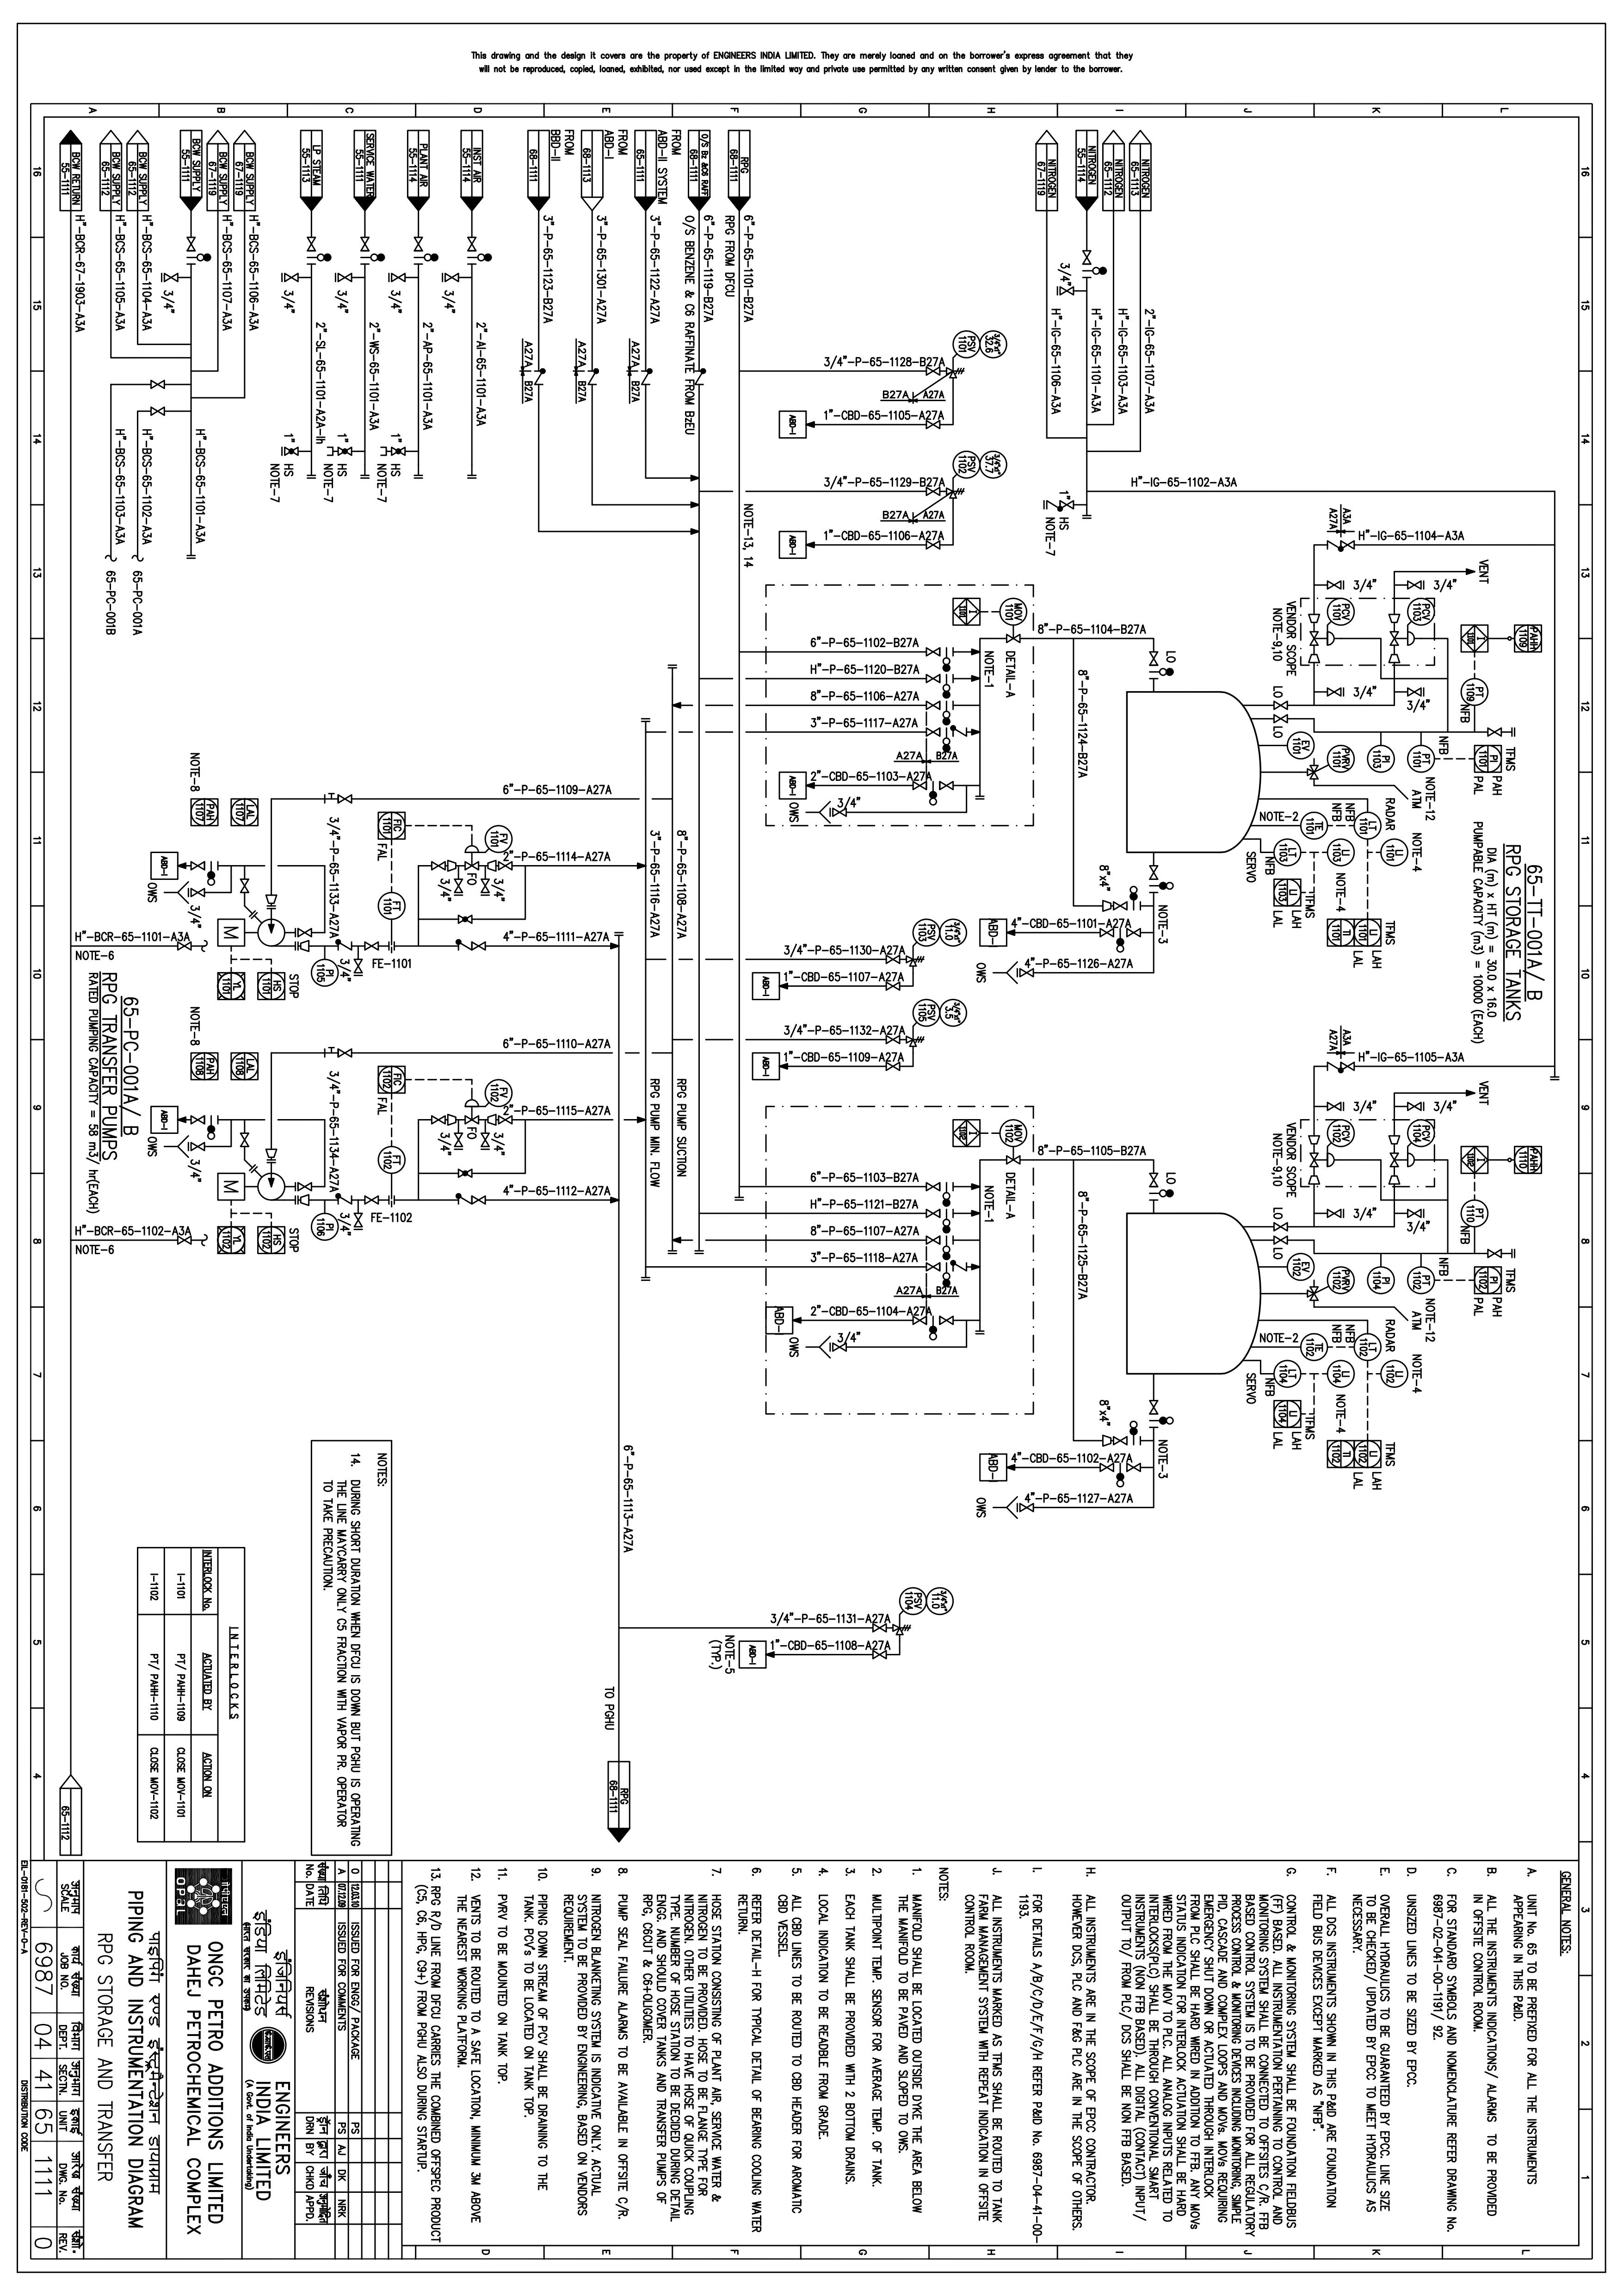ball valve: (453, 1191, 499, 1212), (453, 936, 490, 961), (1036, 495, 1078, 513), (423, 1108, 460, 1128), (1323, 1059, 1363, 1077), (458, 852, 488, 875), (270, 265, 306, 285), (323, 791, 362, 808), (297, 232, 325, 255), (1094, 1433, 1133, 1449), (1302, 759, 1324, 785), (1396, 682, 1430, 699), (1098, 898, 1135, 913), (409, 228, 430, 255), (1323, 539, 1361, 553), (432, 269, 465, 285), (141, 404, 174, 420), (427, 856, 460, 871), (327, 1045, 360, 1061), (448, 877, 471, 899), (481, 1112, 518, 1126), (1013, 1498, 1038, 1520), (1484, 1242, 1509, 1263), (286, 1177, 318, 1193), (1398, 1205, 1430, 1221), (1054, 281, 1082, 299), (917, 481, 945, 499), (323, 446, 358, 460), (376, 446, 411, 460), (485, 859, 520, 873), (263, 1142, 283, 1166), (350, 1209, 369, 1233), (156, 271, 186, 286), (1013, 966, 1043, 982), (450, 913, 483, 928), (875, 978, 908, 993), (351, 235, 372, 256), (146, 376, 174, 392), (181, 885, 213, 899), (933, 778, 961, 794), (1400, 1096, 1428, 1112), (1266, 1233, 1295, 1249), (1145, 1168, 1165, 1191), (1124, 1460, 1147, 1479), (476, 877, 494, 901), (186, 1110, 211, 1128), (1482, 722, 1507, 740), (288, 924, 318, 938), (1321, 687, 1351, 701), (1266, 1219, 1296, 1233), (919, 539, 945, 555), (1321, 574, 1347, 590), (460, 232, 480, 253), (1143, 1397, 1165, 1416), (1126, 924, 1149, 942), (868, 1648, 891, 1665), (1321, 1203, 1344, 1221), (1386, 1149, 1403, 1172), (1302, 1284, 1324, 1302), (917, 697, 945, 711), (917, 1179, 945, 1193), (917, 1231, 945, 1245), (378, 272, 415, 283), (186, 856, 211, 871), (351, 956, 367, 980), (880, 1031, 905, 1047), (1303, 629, 1323, 648), (1384, 629, 1403, 648), (919, 365, 945, 379), (999, 631, 1026, 645), (1402, 578, 1428, 592), (1145, 863, 1163, 884), (919, 1260, 945, 1274), (934, 1314, 961, 1328), (827, 1337, 848, 1354), (1323, 1098, 1349, 1112), (274, 444, 304, 457), (183, 230, 198, 253), (184, 1138, 207, 1154), (453, 1166, 476, 1182), (1145, 645, 1161, 668), (1305, 1147, 1321, 1170), (919, 671, 943, 685), (906, 780, 931, 794), (237, 1130, 255, 1149), (327, 274, 358, 285), (924, 643, 945, 659), (920, 1207, 943, 1221), (1094, 1462, 1117, 1476), (868, 1620, 891, 1634), (1078, 246, 1094, 265), (237, 877, 253, 896), (170, 940, 195, 952), (919, 726, 943, 738), (880, 954, 905, 966), (905, 1314, 929, 1326), (827, 805, 848, 819), (882, 1061, 905, 1073), (924, 420, 945, 432), (360, 940, 381, 952), (362, 1195, 383, 1207), (1096, 929, 1119, 938)
